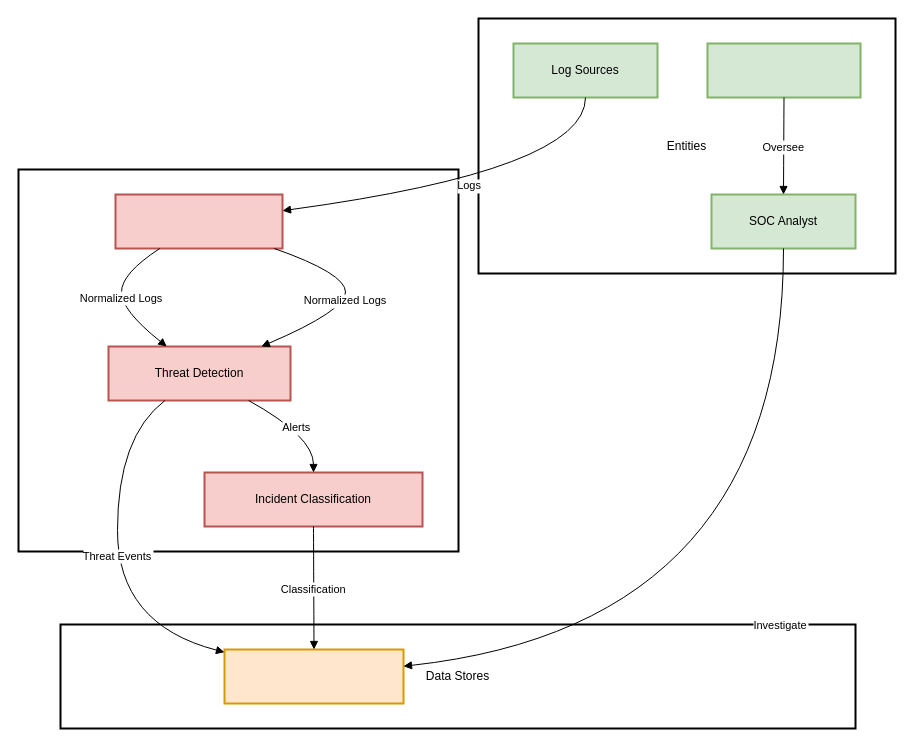
Image size: 913x746. Some labels were removed from this diagram. The centre of each missing label's shape, as x and y in pixels:
Incident Records: pixel 313 676
Log Aggregator: pixel 198 221
SOC Manager: pixel 783 70
